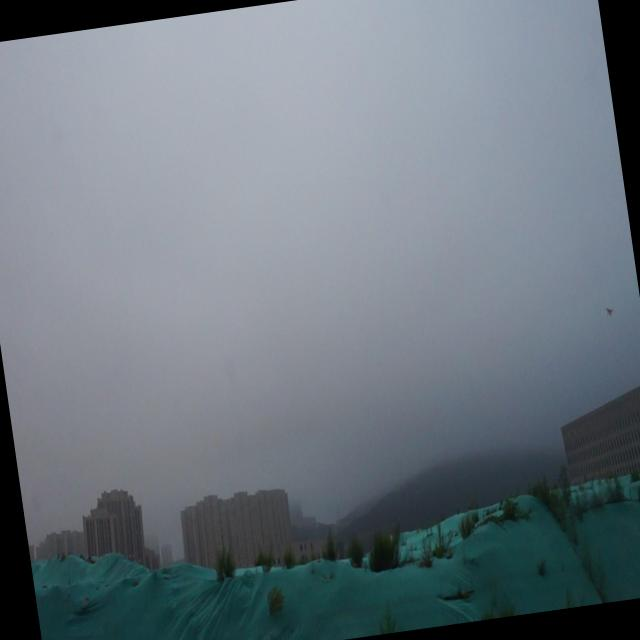drone: (604, 303, 616, 321)
